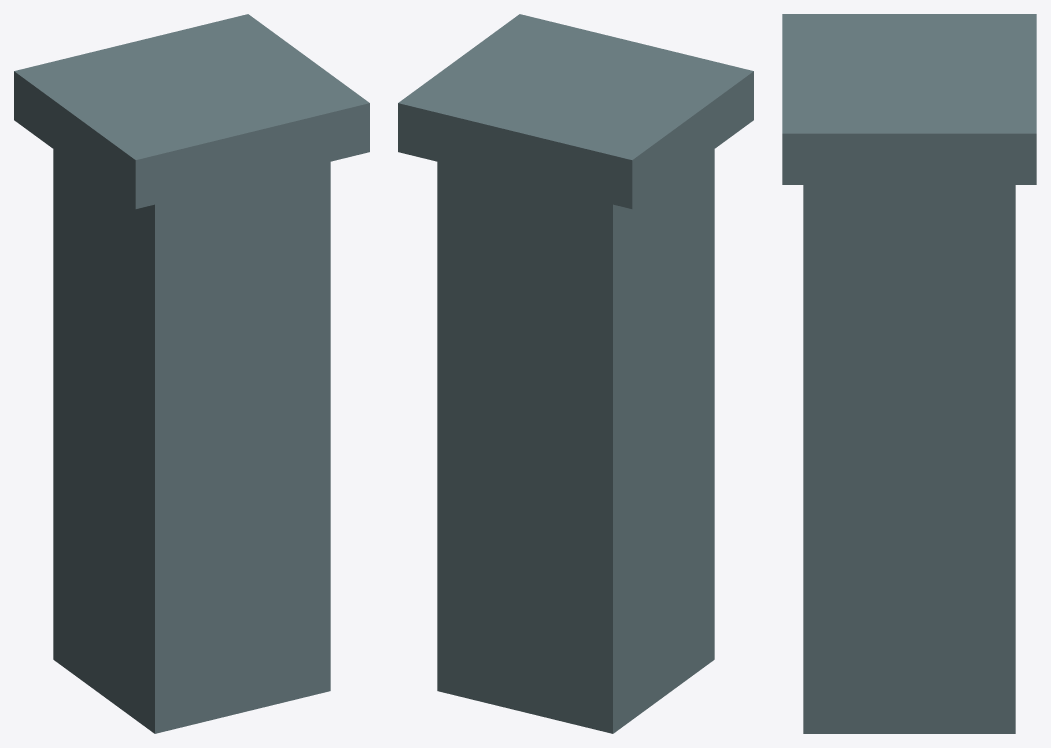
The model's file is grain-elevator.glb.
3 renders of one model, left to right at view 1: azimuth 30°, elevation 25°; view 2: azimuth 150°, elevation 25°; view 3: azimuth 270°, elevation 25°, orthographic. The views are drawn at different scales.
Parts seen in each view (by area): view 1: grain-elevator-static-elevator-metal; view 2: grain-elevator-static-elevator-metal; view 3: grain-elevator-static-elevator-metal.
Boxes of the visible parts, x1,y1,x2,y2 form: grain-elevator-static-elevator-metal: [14, 14, 369, 733]; grain-elevator-static-elevator-metal: [398, 14, 753, 733]; grain-elevator-static-elevator-metal: [782, 14, 1036, 733].
Bounding box in the file's own units: 4 × 9.6 × 3.6.
